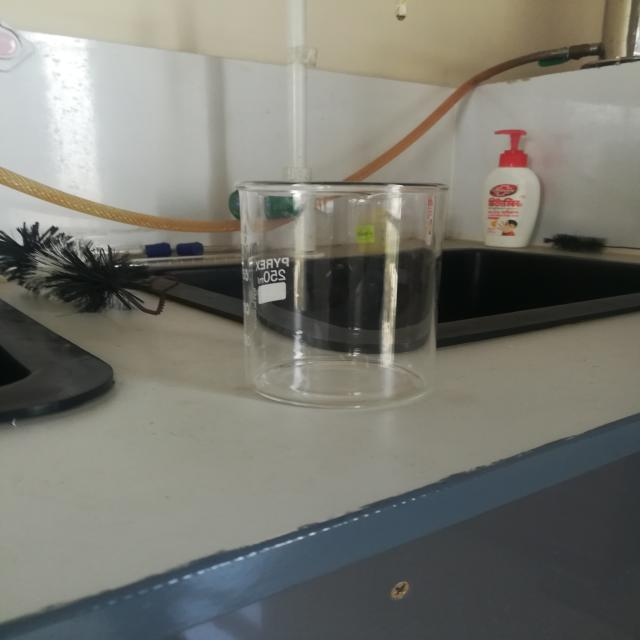Beaker: (213, 144, 471, 427)
